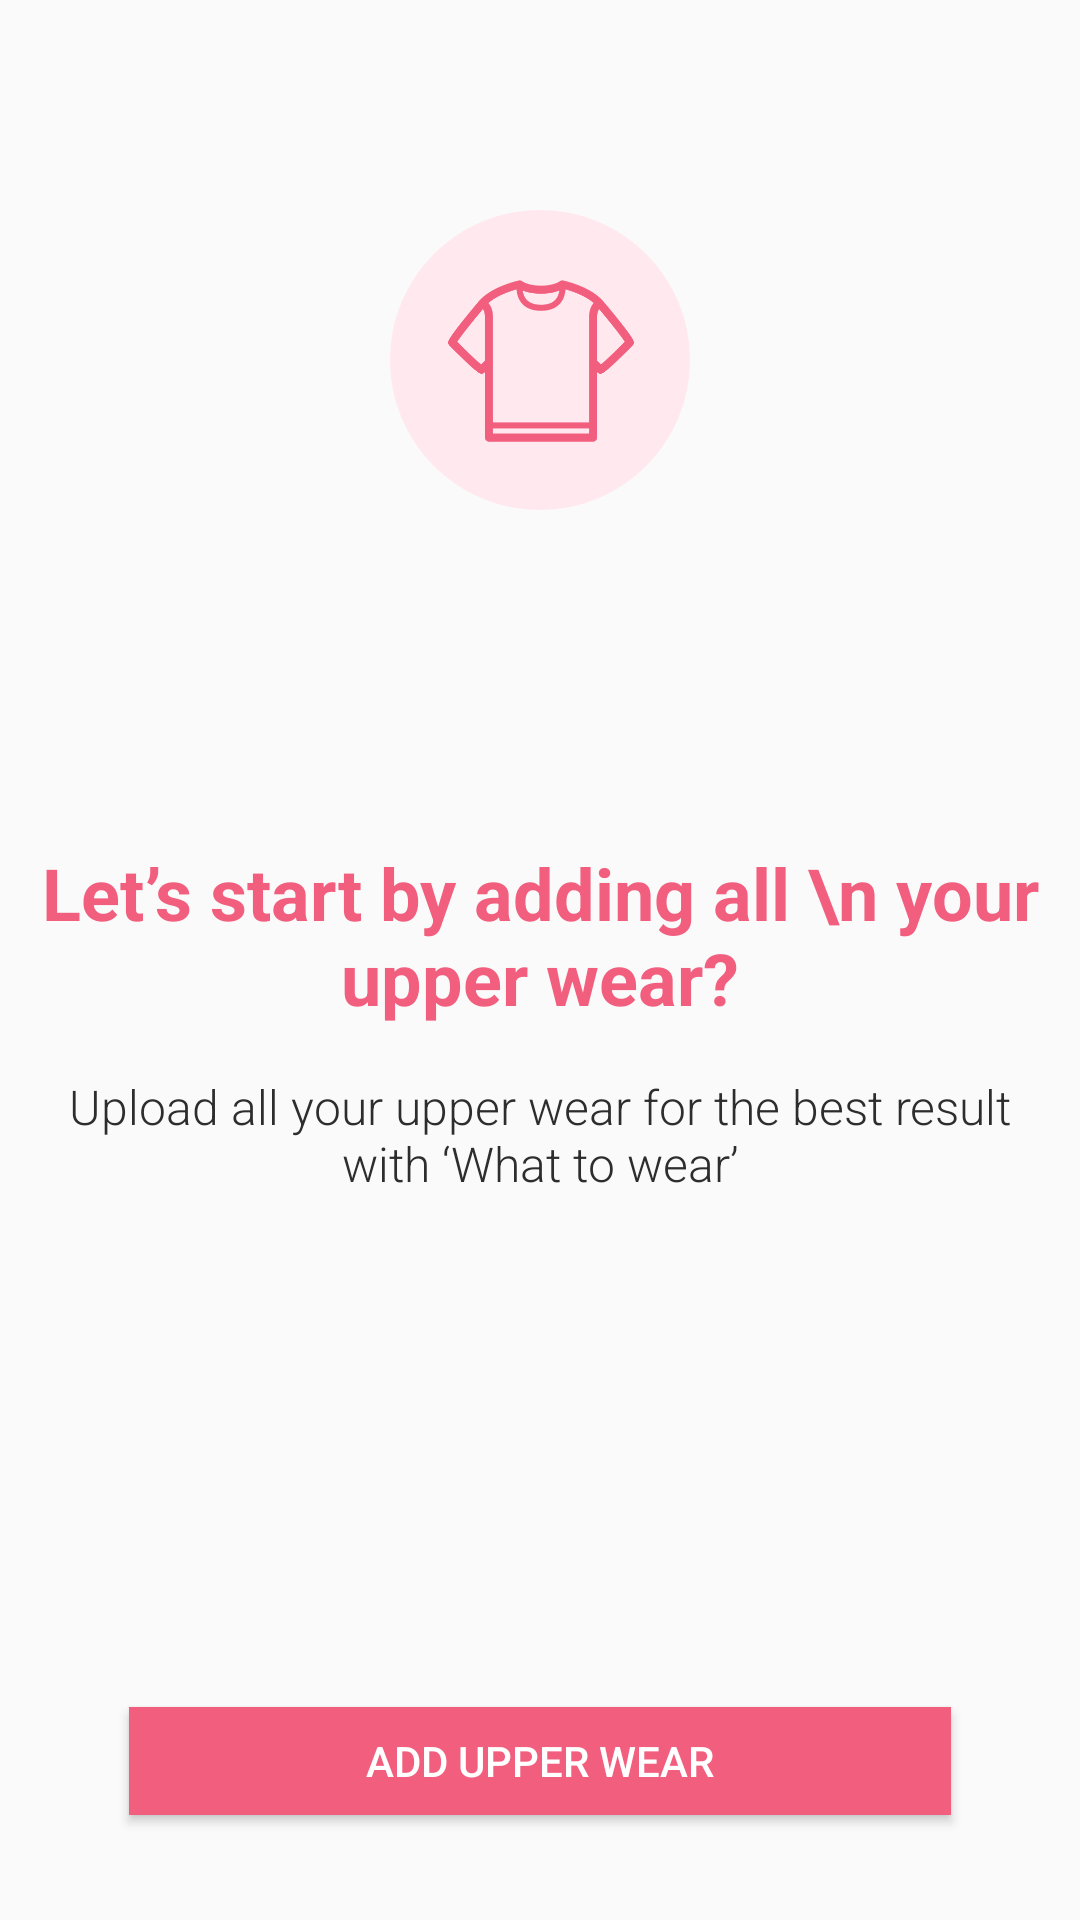

Icon bounding boxes for this 1080 x 1920 phone screenshot, format detection(x1, y1, x2, y2):
pick shirt: detection(390, 210, 690, 510)
